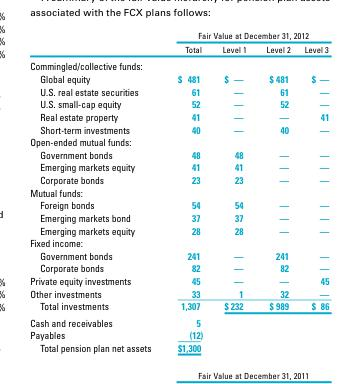table: (29, 29, 328, 353)
table column: (29, 29, 163, 353), (163, 29, 211, 353), (211, 29, 255, 353), (255, 29, 296, 353), (296, 29, 328, 353)
table column header: (29, 29, 328, 56)
table projected row header: (29, 56, 328, 71), (29, 185, 328, 198), (29, 135, 328, 147), (29, 236, 328, 248)
table row: (29, 41, 328, 56), (29, 56, 328, 71), (29, 313, 328, 328), (29, 299, 328, 313), (29, 71, 328, 84), (29, 84, 328, 97), (29, 109, 328, 122), (29, 122, 328, 135), (29, 147, 328, 160), (29, 172, 328, 185), (29, 185, 328, 198), (29, 210, 328, 223), (29, 223, 328, 236), (29, 248, 328, 261), (29, 261, 328, 274), (29, 286, 328, 299), (29, 340, 328, 353), (29, 29, 328, 41), (29, 97, 328, 109), (29, 135, 328, 147), (29, 160, 328, 172), (29, 198, 328, 210), (29, 236, 328, 248), (29, 274, 328, 286), (29, 328, 328, 340)
table spanning cell: (163, 29, 328, 41)
